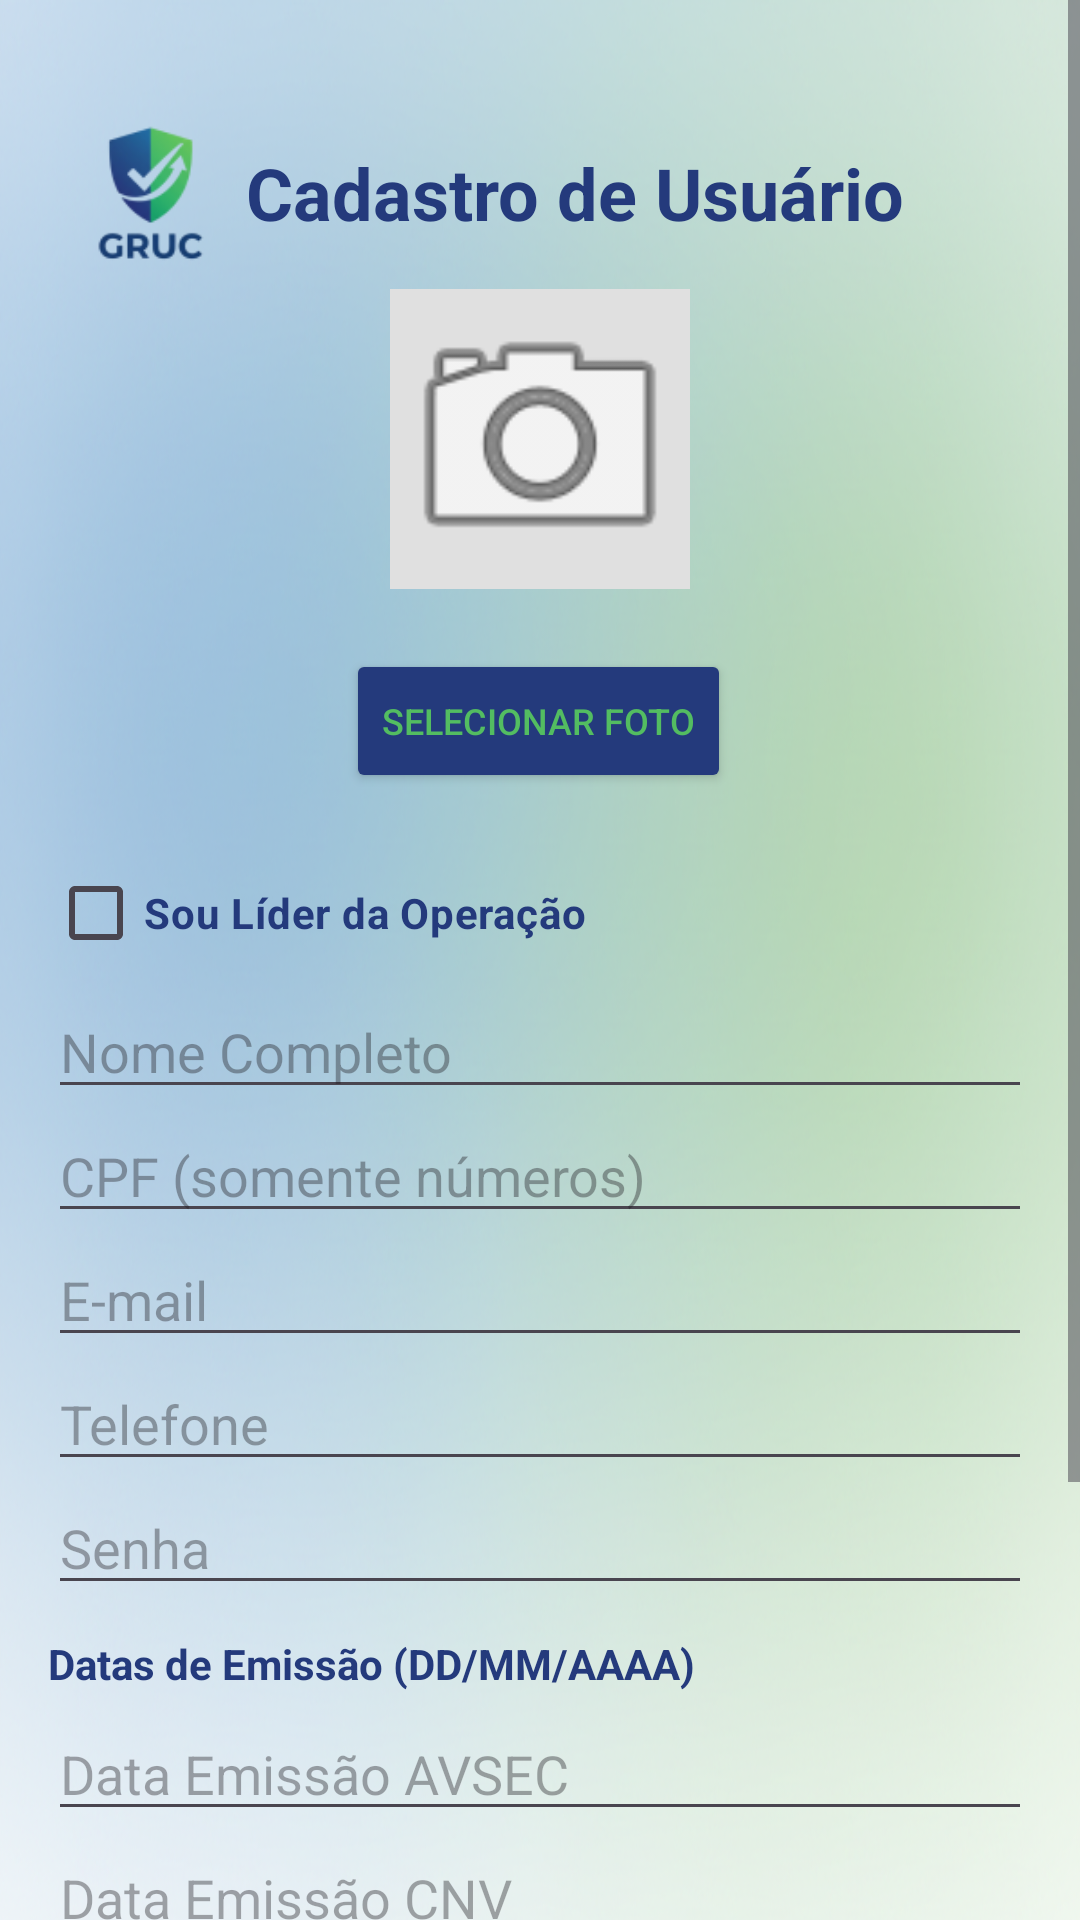

Where icons sit on this 1080px x 1920px app screen, as (x1, y1, x2, y2):
camera: (390, 289, 690, 589)
